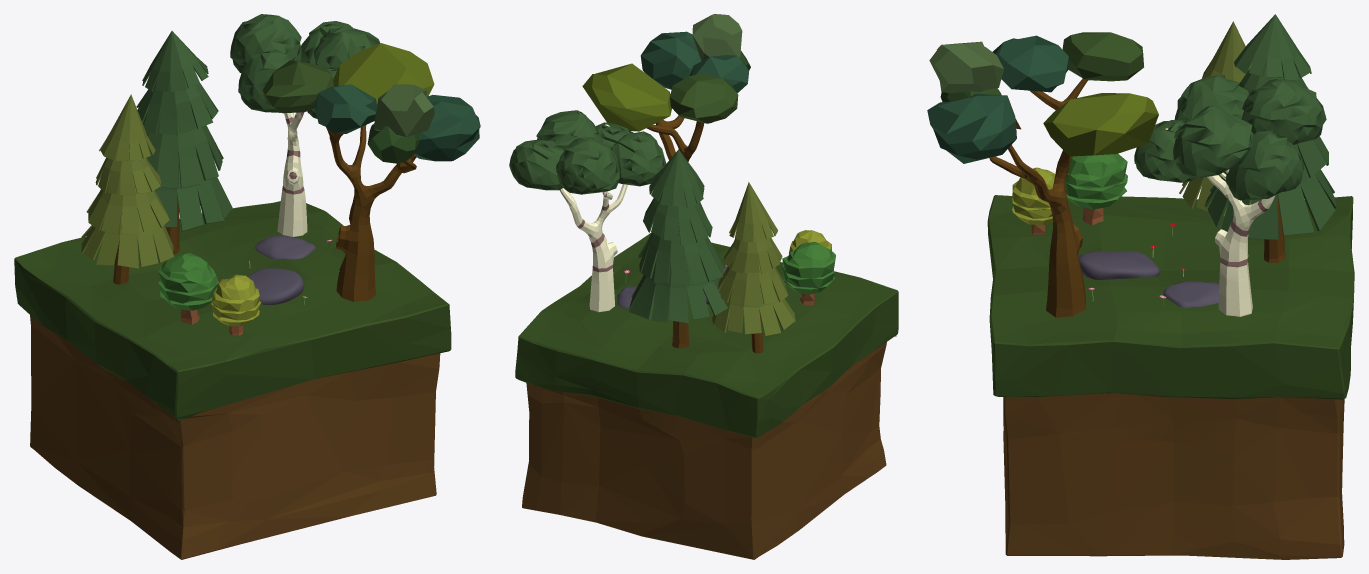
The model's file is tile_trees2.min.gltf.
3 views of the same model, side by side, from view 1: azimuth 30°, elevation 25°; view 2: azimuth 150°, elevation 25°; view 3: azimuth 270°, elevation 25° (orthographic). The views are drawn at different scales.
Visible parts, largest first — view 1: CENTERED.022, tree trunk.004, christmas tree.012, christmas tree.008, Cube.010, Circle.017, Circle.016, Box002.001, Box001.003; view 2: CENTERED.022, tree trunk.004, Cube.010, christmas tree.012, christmas tree.008, Circle.017, Circle.016; view 3: CENTERED.022, tree trunk.004, Cube.010, christmas tree.012, Circle.017, christmas tree.008, Box002.001, Circle.016, Box001.003.
Part boxes in pixels (x1=…): CENTERED.022: x1=14, y1=201, x2=451, y2=559; tree trunk.004: x1=262, y1=43, x2=480, y2=301; christmas tree.012: x1=136, y1=31, x2=232, y2=254; christmas tree.008: x1=81, y1=94, x2=174, y2=284; Cube.010: x1=230, y1=14, x2=379, y2=236; Circle.017: x1=158, y1=253, x2=219, y2=324; Circle.016: x1=211, y1=274, x2=261, y2=335; Box002.001: x1=247, y1=268, x2=304, y2=304; Box001.003: x1=255, y1=235, x2=315, y2=259; CENTERED.022: x1=515, y1=232, x2=898, y2=559; tree trunk.004: x1=582, y1=14, x2=750, y2=161; Cube.010: x1=509, y1=110, x2=666, y2=312; christmas tree.012: x1=629, y1=149, x2=727, y2=348; christmas tree.008: x1=712, y1=182, x2=795, y2=353; Circle.017: x1=782, y1=242, x2=835, y2=305; Circle.016: x1=789, y1=230, x2=831, y2=253; CENTERED.022: x1=987, y1=195, x2=1354, y2=559; tree trunk.004: x1=927, y1=32, x2=1158, y2=317; Cube.010: x1=1134, y1=75, x2=1326, y2=316; christmas tree.012: x1=1204, y1=14, x2=1336, y2=262; Circle.017: x1=1065, y1=153, x2=1127, y2=225; christmas tree.008: x1=1179, y1=21, x2=1251, y2=216; Box002.001: x1=1078, y1=251, x2=1160, y2=279; Circle.016: x1=1012, y1=167, x2=1055, y2=234; Box001.003: x1=1163, y1=281, x2=1219, y2=307.
Bounding box in the file's own units: 1.21 × 1.61 × 1.27.
